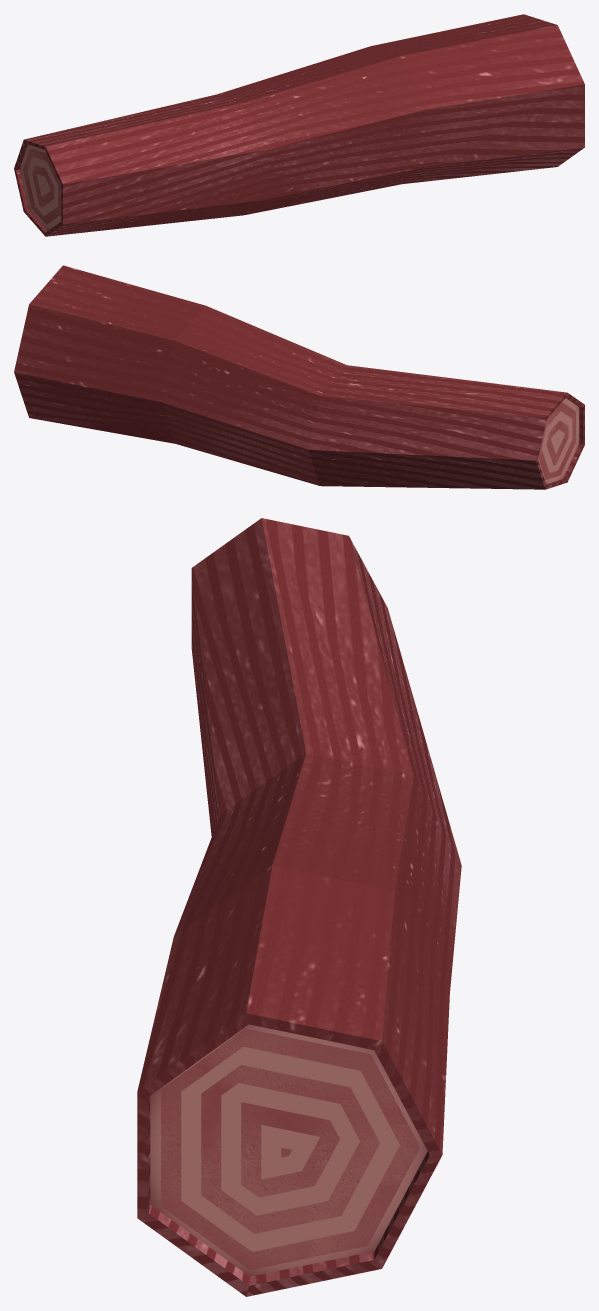
File: branch_03.fbx
3 views of the same model, one above another, from view 1: azimuth 30°, elevation 25°; view 2: azimuth 150°, elevation 25°; view 3: azimuth 270°, elevation 25° (orthographic). The views are drawn at different scales.
Parts seen in each view (by area): view 1: Cylinder.013; view 2: Cylinder.013; view 3: Cylinder.013.
Boxes of the visible parts, x1=… form: Cylinder.013: x1=14, y1=14, x2=584, y2=236; Cylinder.013: x1=14, y1=265, x2=584, y2=489; Cylinder.013: x1=137, y1=518, x2=461, y2=1296.
Size of the model in its own units: 768 by 206 by 212.
